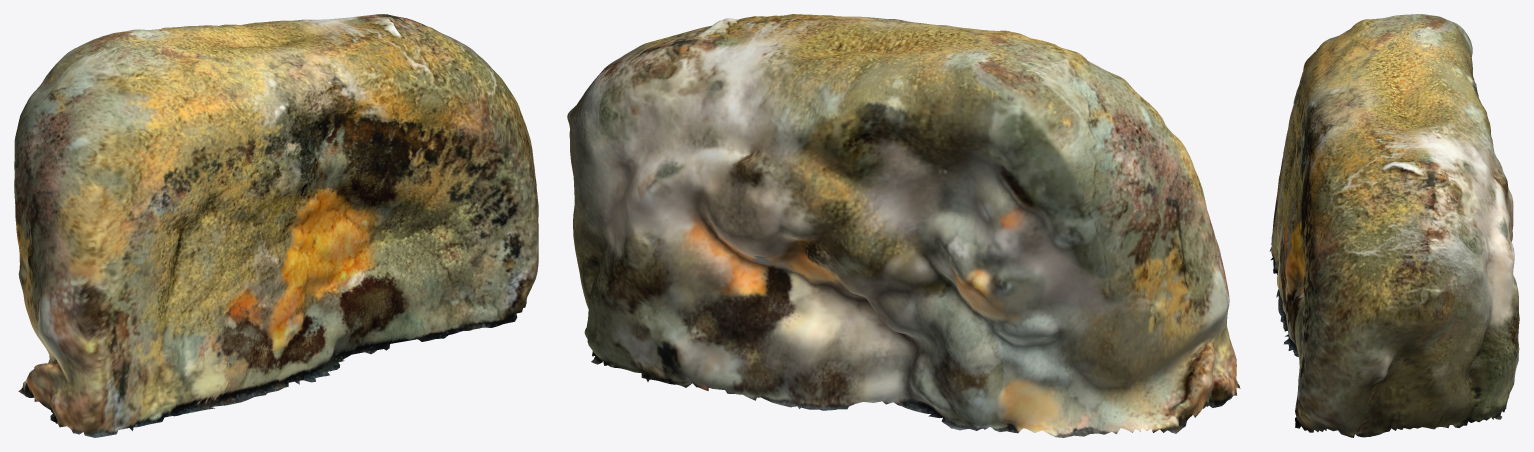
The model's file is musgo.fbx.
3 renders of one model, left to right at view 1: azimuth 30°, elevation 25°; view 2: azimuth 150°, elevation 25°; view 3: azimuth 270°, elevation 25°, orthographic. The views are drawn at different scales.
Visible parts, largest first — view 1: model.002; view 2: model.002; view 3: model.002.
Part boxes in pixels (x1,y1,x2,y2): model.002: [14, 14, 538, 437]; model.002: [567, 14, 1240, 437]; model.002: [1269, 14, 1519, 437].
Bounding box in the file's own units: 320 × 187 × 155.
Materials: 3 (3 with a texture image).
